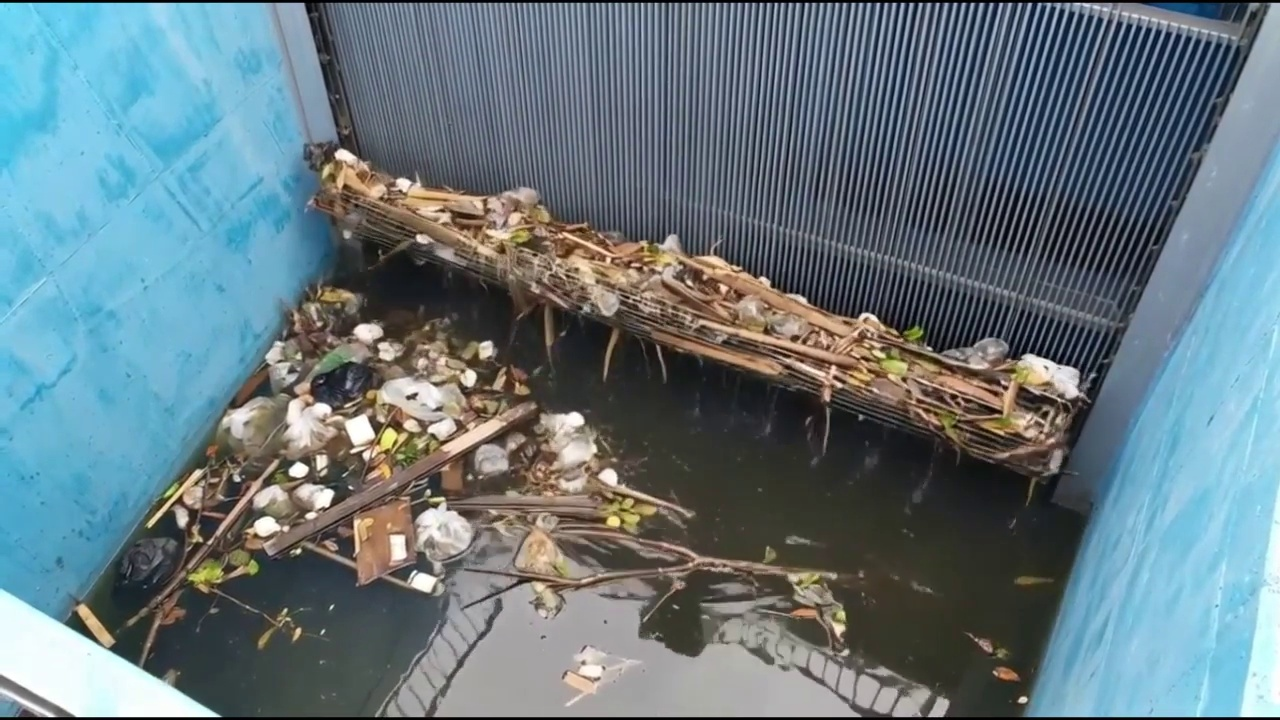debris: (304, 143, 1083, 483), (128, 287, 838, 624)
